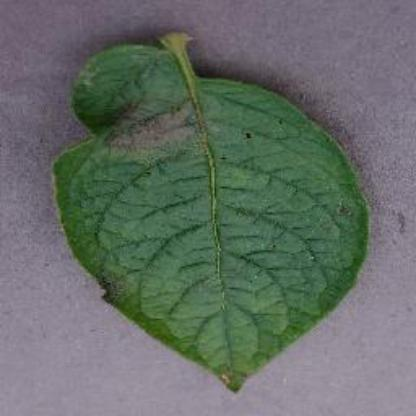Late-Blight: (33, 8, 389, 380)
